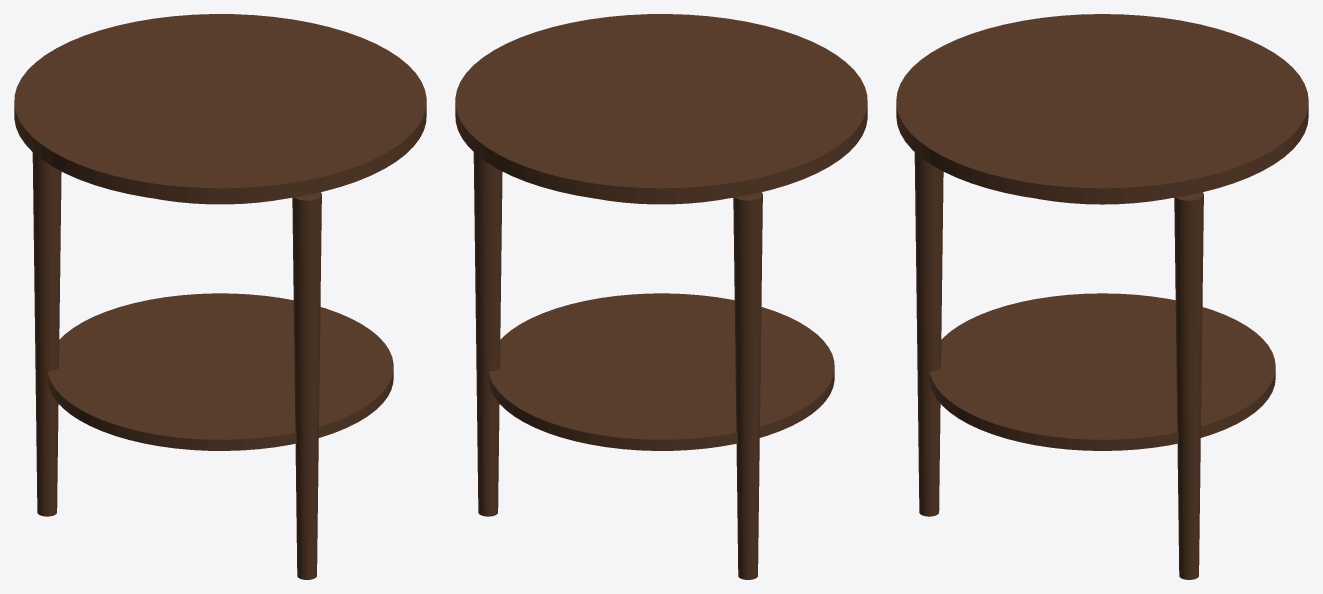
File: 005_round_side_table.glb
The picture shows the model from 3 angles, left to right: view 1: azimuth 30°, elevation 25°; view 2: azimuth 150°, elevation 25°; view 3: azimuth 270°, elevation 25°; orthographic projection.
Visible parts, largest first — view 1: 000_top, 008_lower_shelf, 002_leg, 004_leg; view 2: 000_top, 008_lower_shelf, 004_leg, 006_leg; view 3: 000_top, 008_lower_shelf, 006_leg, 002_leg.
Boxes of the visible parts, x1,y1,x2,y2 form: 000_top: (14,14,426,203); 008_lower_shelf: (47,293,393,450); 002_leg: (292,192,321,579); 004_leg: (32,152,61,516); 000_top: (455,14,867,203); 008_lower_shelf: (488,293,834,450); 004_leg: (733,192,762,579); 006_leg: (473,152,502,516); 000_top: (896,14,1308,203); 008_lower_shelf: (929,293,1275,450); 006_leg: (1174,192,1203,579); 002_leg: (914,152,943,516).
Bounding box in the file's own units: 0.5 × 0.55 × 0.5.
